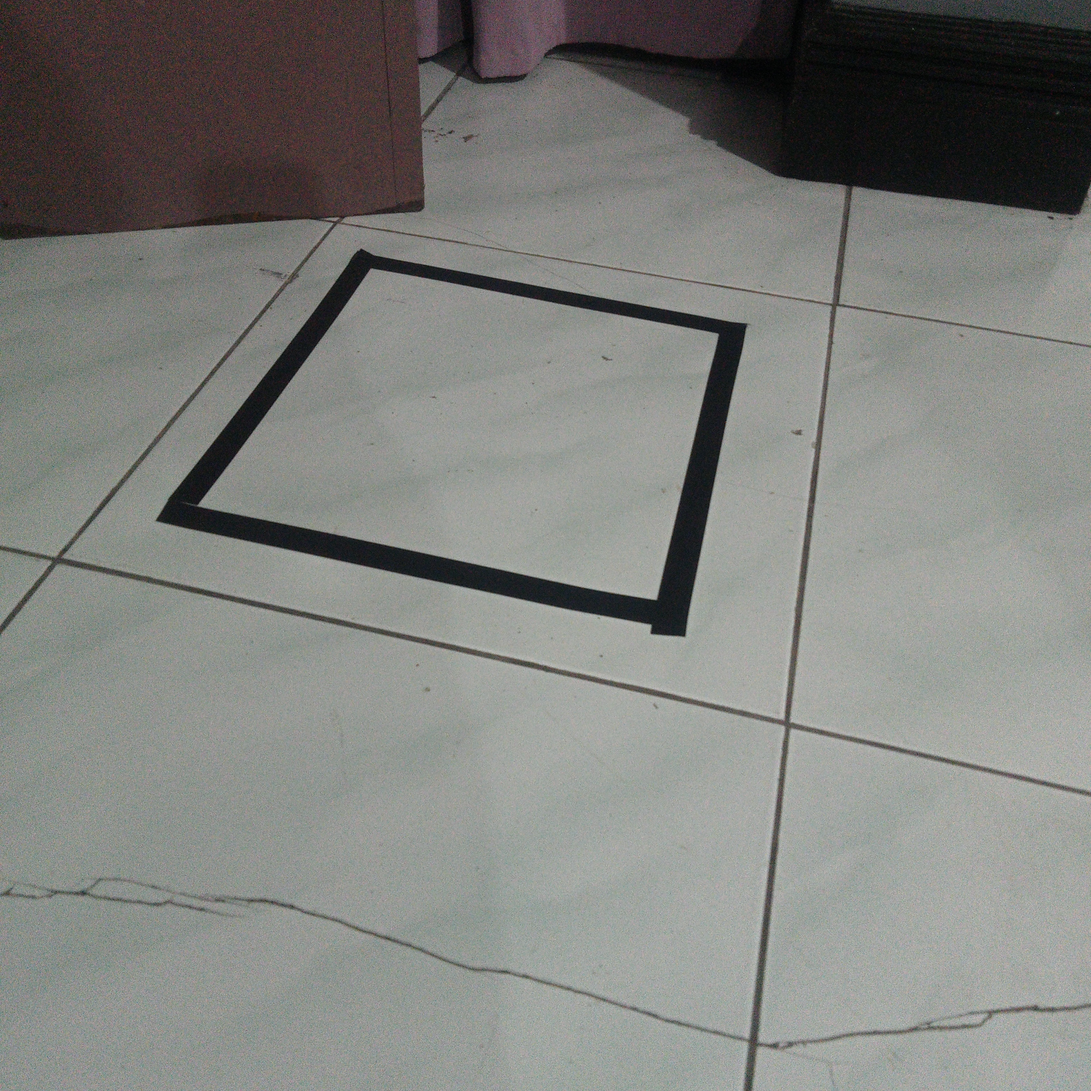parking_area: (160, 237, 747, 642)
